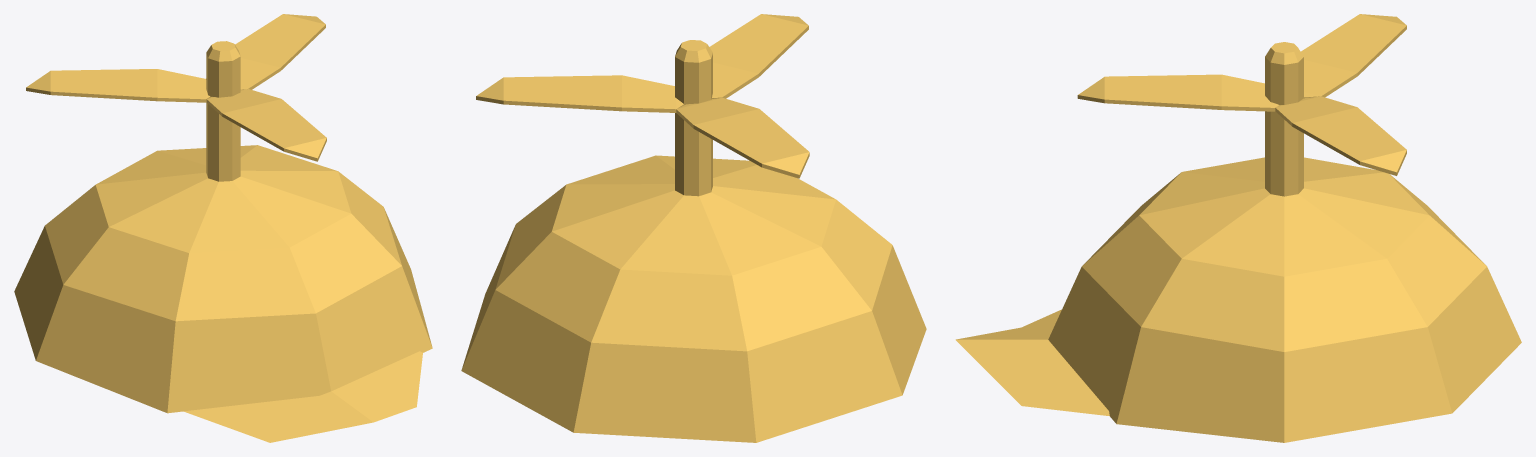
File: hat_copter.fbx
3 renders of one model, left to right at view 1: azimuth 30°, elevation 25°; view 2: azimuth 150°, elevation 25°; view 3: azimuth 270°, elevation 25°, orthographic. The views are drawn at different scales.
Visible parts, largest first — view 1: hat, puropera; view 2: hat, puropera; view 3: hat, puropera.
Part boxes in pixels (left/top/right/bottom): hat: left=14, top=41, right=432, bottom=442; puropera: left=26, top=14, right=326, bottom=161; hat: left=461, top=40, right=926, bottom=442; puropera: left=476, top=14, right=809, bottom=178; hat: left=955, top=42, right=1521, bottom=442; puropera: left=1077, top=14, right=1406, bottom=175.
Bounding box in the file's own units: 231 × 172 × 276.
